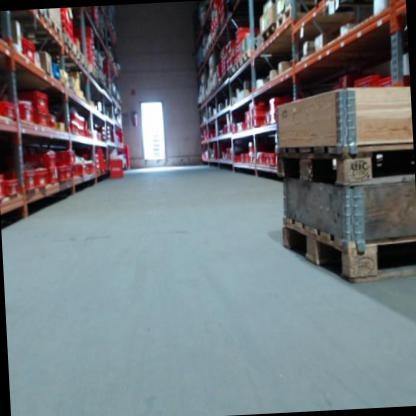pallet: (279, 209, 416, 289), (278, 141, 415, 193), (275, 4, 293, 29), (261, 22, 276, 43), (47, 17, 62, 38), (63, 31, 75, 52), (240, 48, 251, 66), (75, 44, 84, 63), (232, 57, 241, 73), (83, 58, 89, 71)
small_load_carrier: (16, 86, 51, 112), (24, 147, 59, 168), (267, 96, 294, 121), (0, 94, 18, 122), (21, 162, 38, 190), (15, 101, 33, 125), (352, 75, 379, 91), (30, 110, 52, 129), (233, 24, 257, 41), (55, 148, 77, 166), (377, 72, 400, 86), (5, 177, 20, 198), (60, 120, 79, 136), (35, 170, 49, 190), (72, 162, 86, 179), (55, 166, 66, 186), (46, 170, 60, 185), (250, 105, 269, 116), (250, 116, 267, 128), (0, 173, 6, 202), (256, 150, 267, 164), (233, 42, 248, 52), (84, 160, 94, 174), (266, 152, 275, 167), (65, 166, 74, 180), (69, 113, 79, 124)
